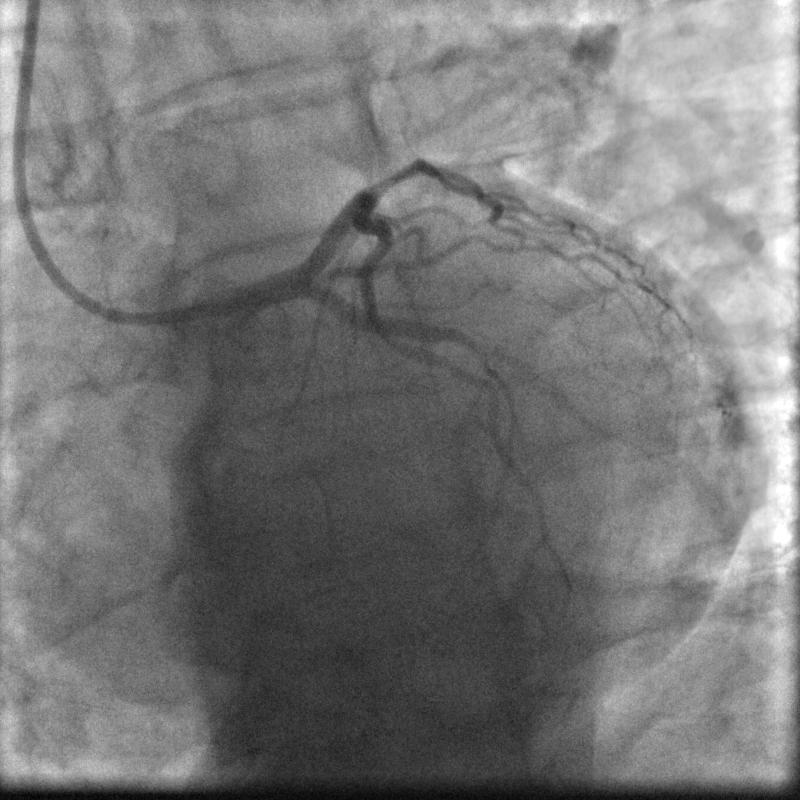Stenosis: (369, 153, 424, 189)
